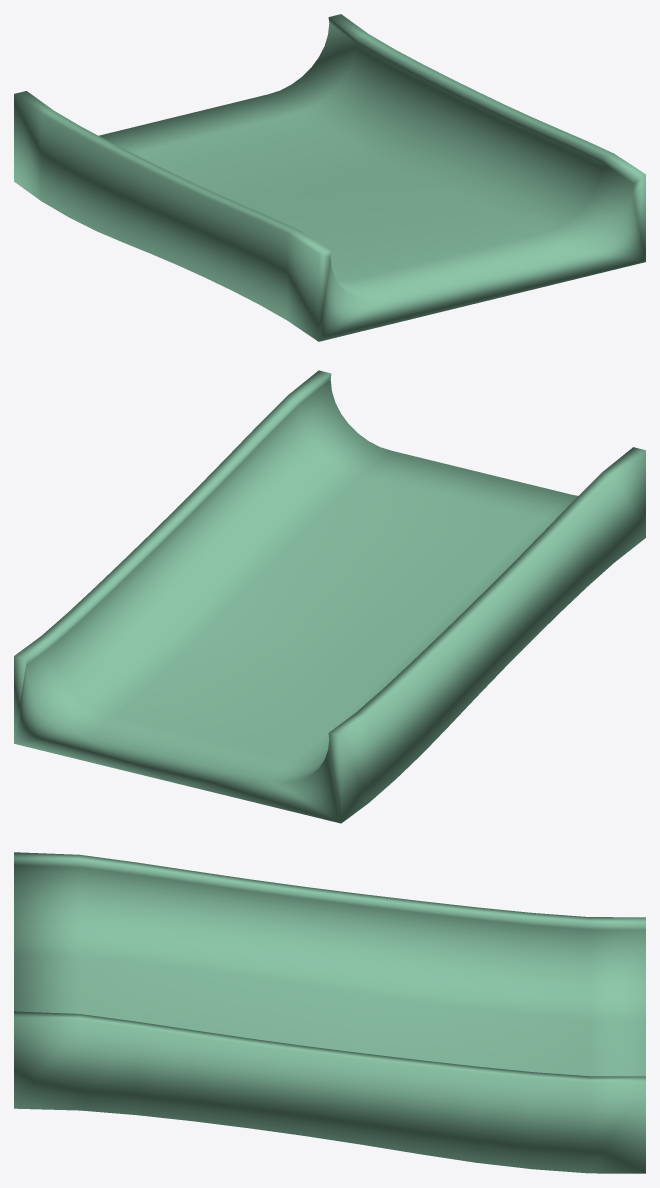
The model's file is Track.glb.
3 renders of one model, top to bottom at view 1: azimuth 30°, elevation 25°; view 2: azimuth 150°, elevation 25°; view 3: azimuth 270°, elevation 25°, orthographic. The views are drawn at different scales.
Parts seen in each view (by area): view 1: Track; view 2: Track; view 3: Track.
Part boxes in pixels (box(x1,y1,x2,y2)): Track: box(14, 14, 645, 341); Track: box(14, 370, 645, 823); Track: box(14, 852, 645, 1173).
Size of the model in its own units: 46.5 by 20.42 by 75.
